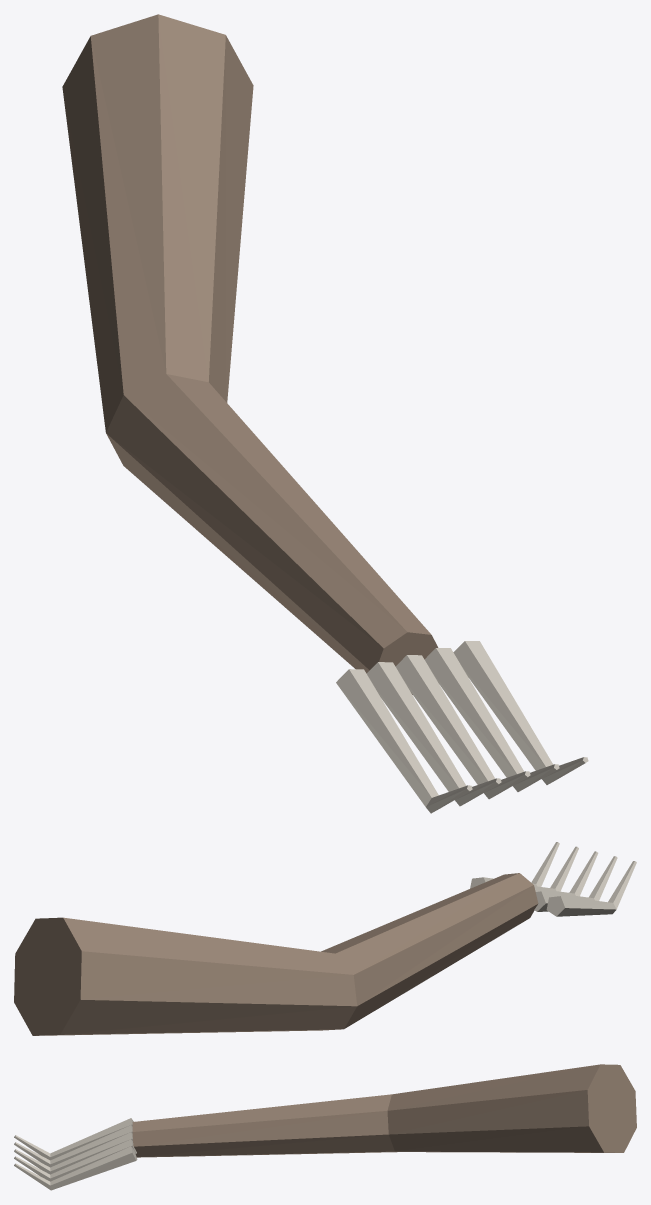
The model's file is bat_leg_l_original_01.glb.
The picture shows the model from 3 angles, top to bottom: view 1: azimuth 30°, elevation 25°; view 2: azimuth 150°, elevation 25°; view 3: azimuth 270°, elevation 25°; orthographic projection. The views are drawn at different scales.
Parts seen in each view (by area): view 1: B0_HindLegL, B0_HindClawsL; view 2: B0_HindLegL, B0_HindClawsL; view 3: B0_HindLegL, B0_HindClawsL.
Part boxes in pixels (x1=…): B0_HindLegL: x1=62, y1=14, x2=438, y2=694; B0_HindClawsL: x1=336, y1=641, x2=588, y2=813; B0_HindLegL: x1=14, y1=873, x2=538, y2=1035; B0_HindClawsL: x1=470, y1=842, x2=636, y2=916; B0_HindLegL: x1=132, y1=1064, x2=636, y2=1157; B0_HindClawsL: x1=14, y1=1118, x2=137, y2=1190.
Bounding box in the file's own units: 0.09 × 0.0761 × 0.2607.
